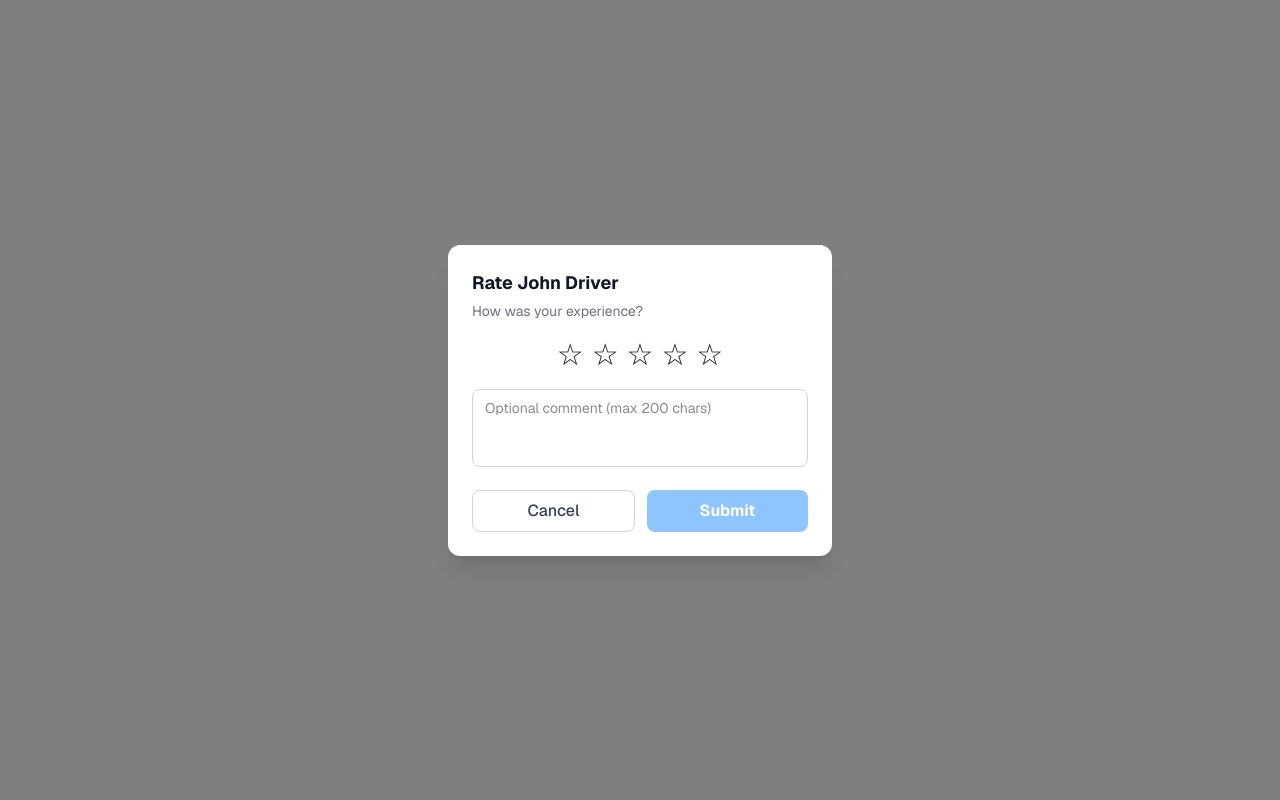
Scenario: RatingModal › submit button enabled after selecting a star
The width and height of the screenshot is (1280, 800).
Click the 3rd button "☆". click: x=640, y=354
box: [626,336,653,372]
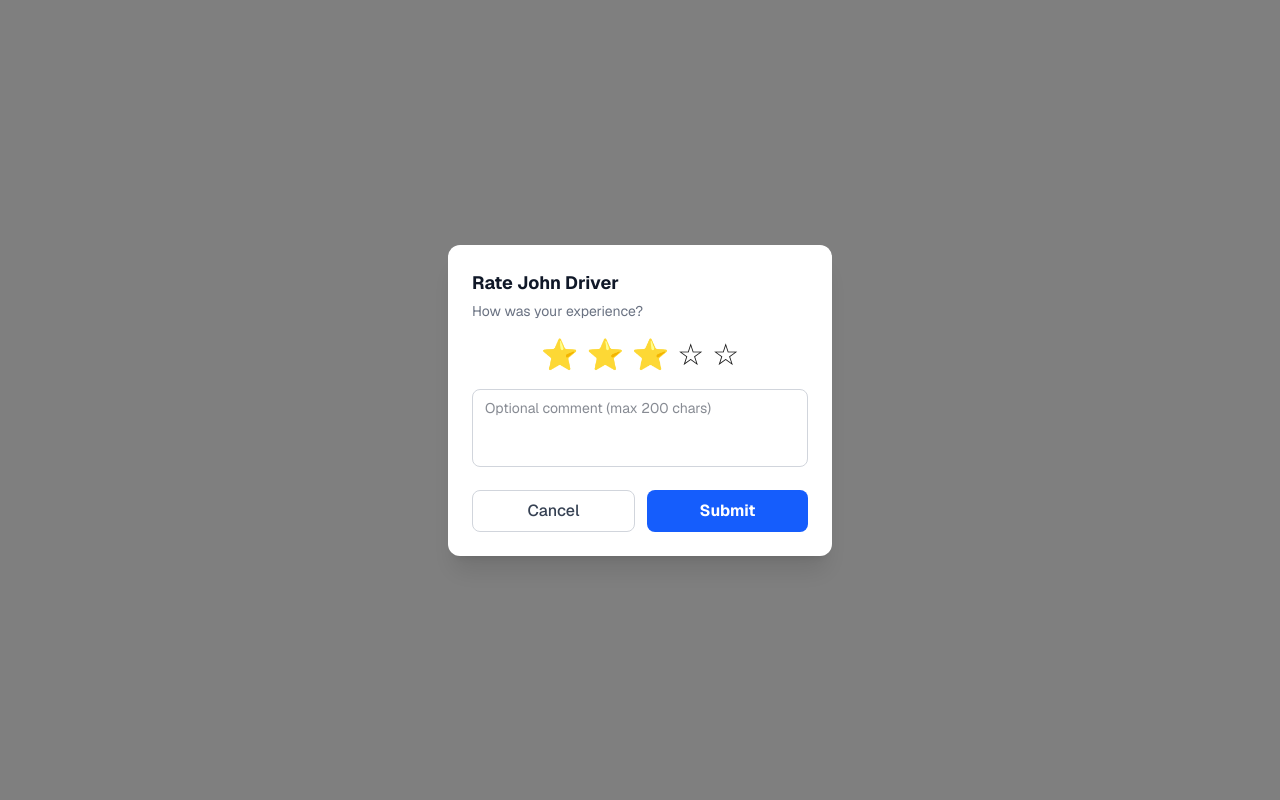
Result: the button "Submit" is enabled at [647,490,808,532]
